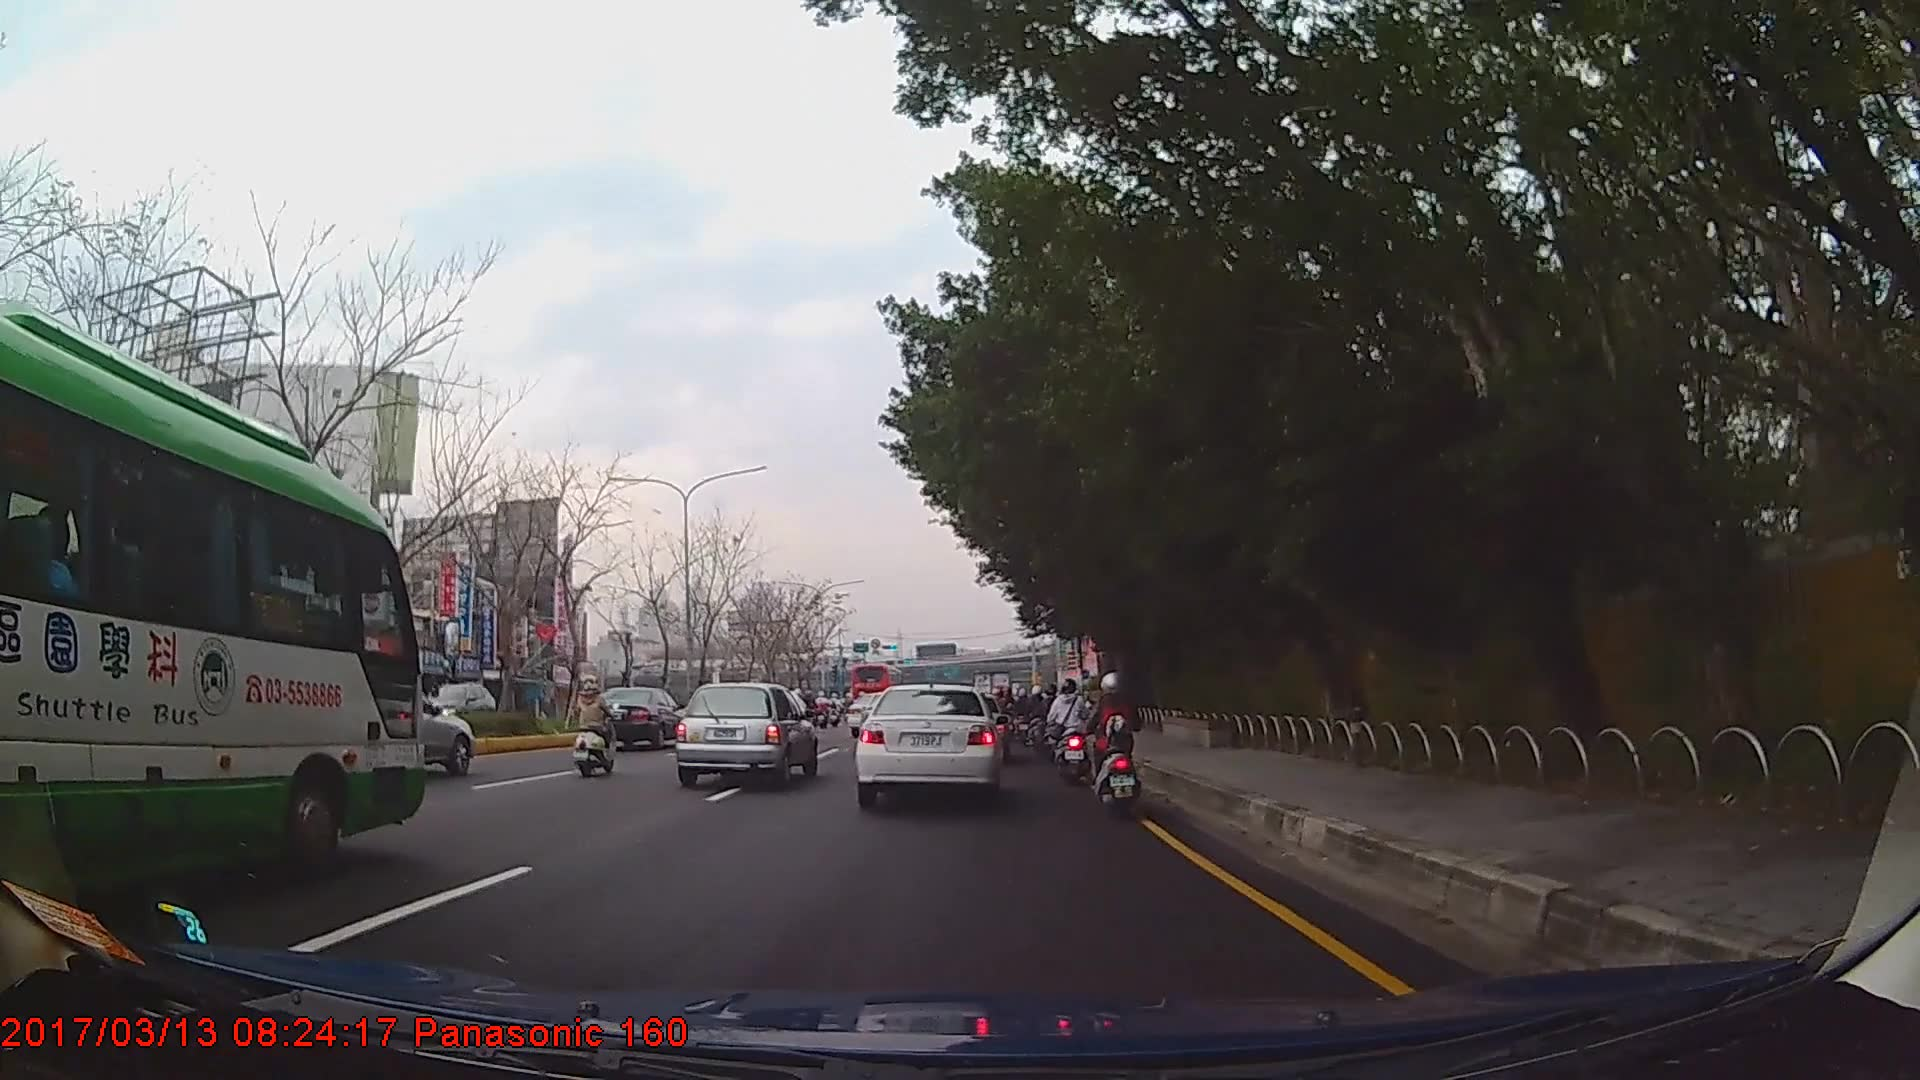rider: (1085, 668, 1148, 819), (1051, 677, 1094, 784), (575, 677, 618, 778), (1041, 682, 1064, 751)
vehicle: (0, 297, 427, 908), (852, 684, 1004, 807), (674, 680, 819, 788), (580, 683, 692, 750), (410, 678, 496, 735), (848, 659, 901, 710)
